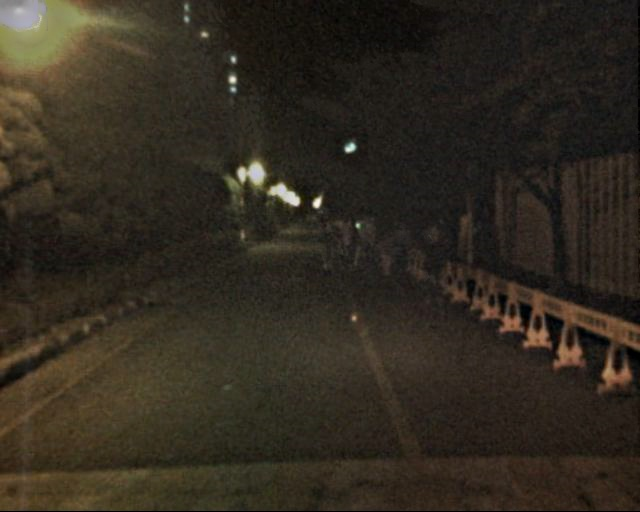person: (416, 225, 449, 305), (354, 215, 379, 277), (316, 216, 339, 273), (391, 219, 414, 274), (335, 219, 356, 271), (375, 228, 396, 278)
